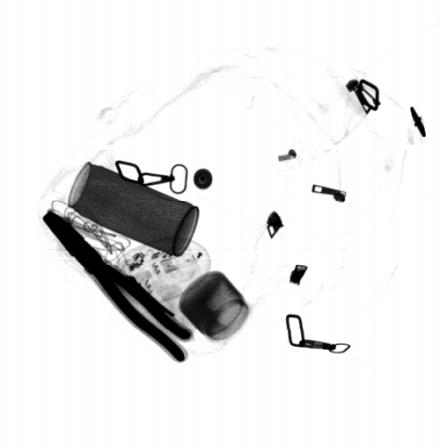Pliers: (43, 210, 195, 363)
